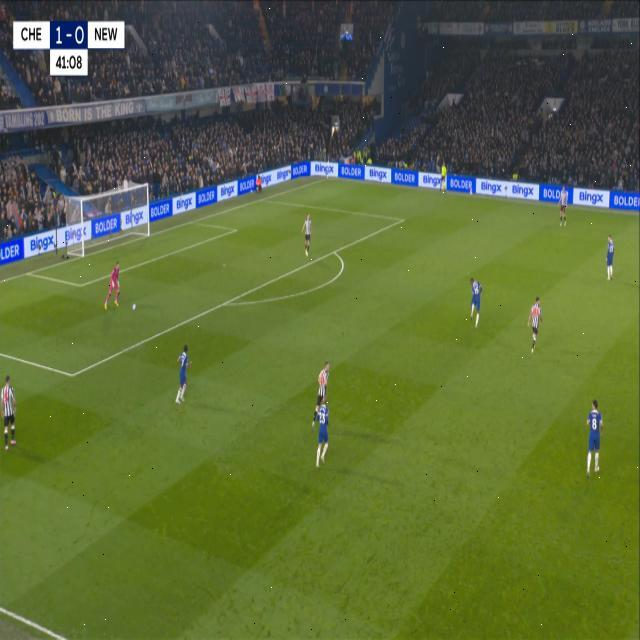Ball: (132, 301, 136, 311)
Chelsea: (582, 394, 606, 482), (173, 340, 194, 408), (468, 272, 484, 334), (316, 399, 330, 468), (604, 228, 617, 285)
Newcastle: (0, 368, 22, 457), (524, 290, 544, 358), (309, 356, 331, 399), (556, 182, 570, 230), (300, 206, 312, 259)
Newcastle Keeper: (103, 258, 124, 314)
